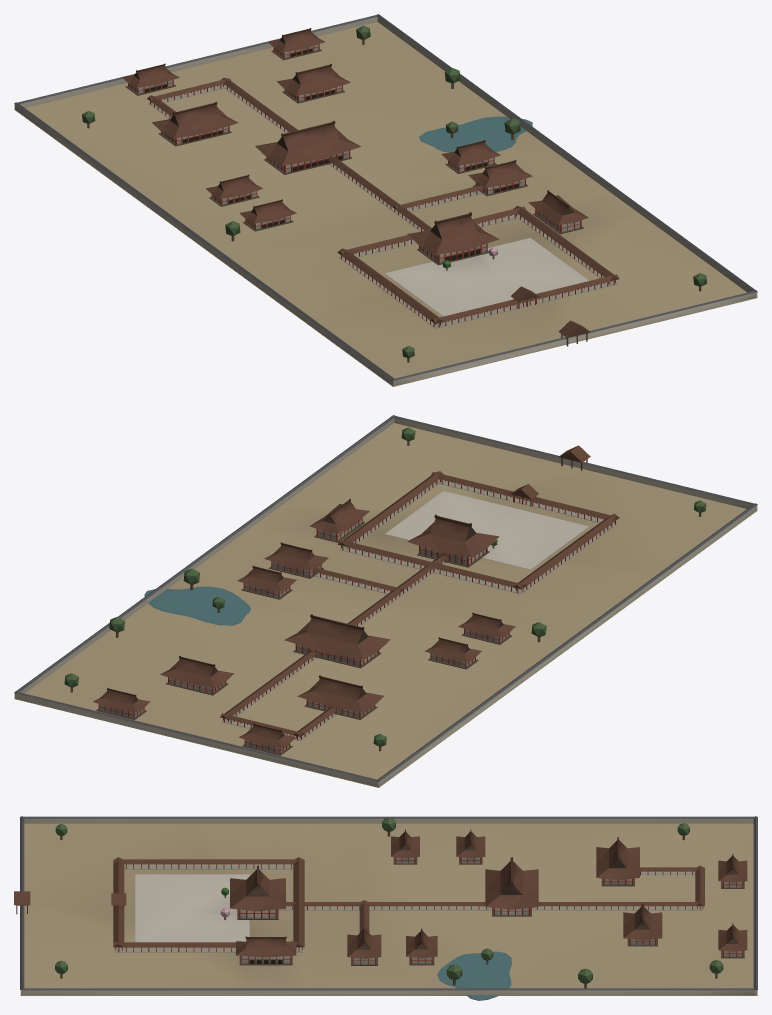
Rendered from gosho.glb.
The picture shows the model from 3 angles, top to bottom: view 1: azimuth 30°, elevation 25°; view 2: azimuth 150°, elevation 25°; view 3: azimuth 270°, elevation 25°; orthographic projection. The views are drawn at different scales.
Visible parts, largest first — view 1: p0_grounds, p2_roofs, p1_halls; view 2: p0_grounds, p1_halls, p2_roofs; view 3: p0_grounds, p2_roofs, p1_halls.
Boxes of the visible parts, x1,y1,x2,y2 form: p0_grounds: (14,14,757,386); p2_roofs: (82,25,707,362); p1_halls: (125,44,619,346); p0_grounds: (14,415,757,787); p1_halls: (96,445,619,755); p2_roofs: (64,427,706,751); p0_grounds: (20,816,757,1000); p2_roofs: (55,817,747,988); p1_halls: (14,857,744,965).
Size of the model in its own units: 258 by 23.72 by 454.
